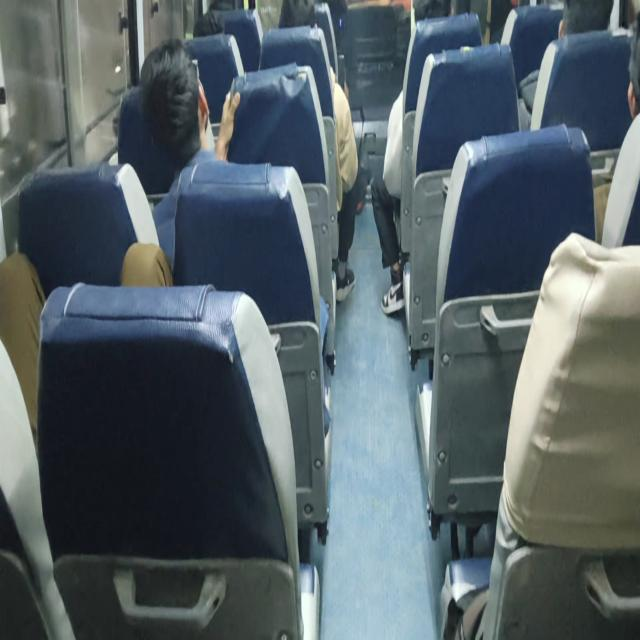person: (152, 53, 213, 152), (553, 0, 615, 52), (276, 0, 330, 56), (408, 0, 458, 32), (628, 11, 640, 113)
